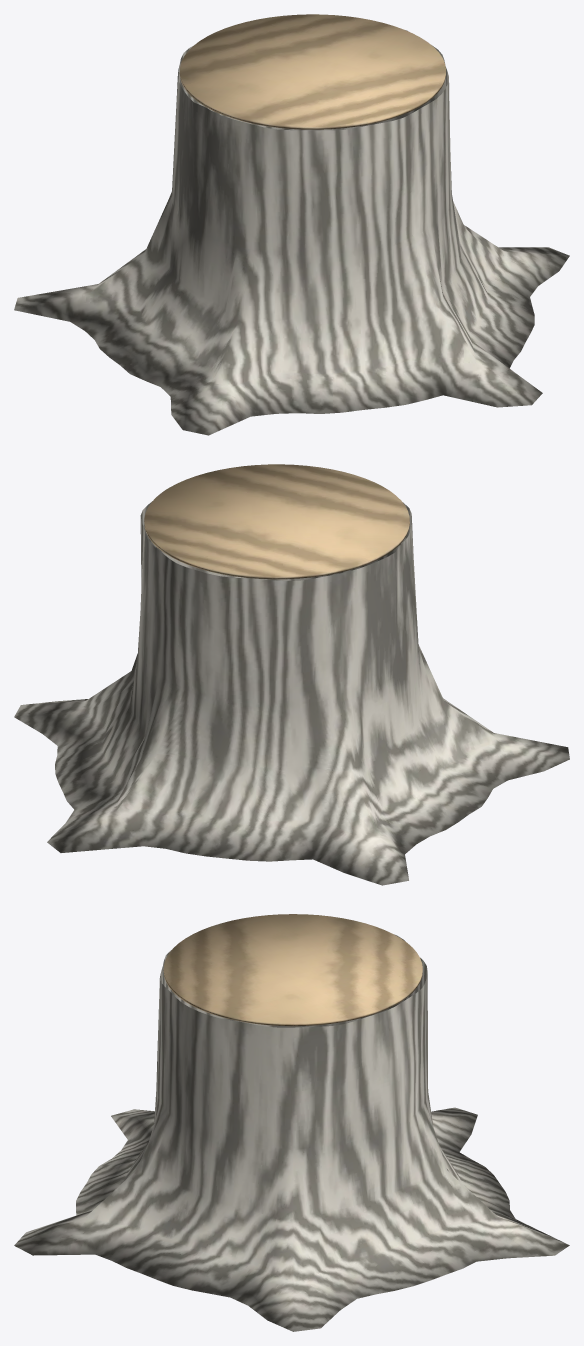
The model's file is birch-pale.glb.
The picture shows the model from 3 angles, top to bottom: view 1: azimuth 30°, elevation 25°; view 2: azimuth 150°, elevation 25°; view 3: azimuth 270°, elevation 25°; orthographic projection. The views are drawn at different scales.
Parts seen in each view (by area): view 1: bark, endgrain; view 2: bark, endgrain; view 3: bark, endgrain.
Boxes of the visible parts, x1,y1,x2,y2 form: bark: (14,30,569,435); endgrain: (179,14,445,129); bark: (14,489,569,885); endgrain: (144,464,409,579); bark: (14,934,569,1331); endgrain: (163,914,422,1026).
Size of the model in its own units: 0.7066 by 0.356 by 0.7399.
2 materials, 2 textured.
